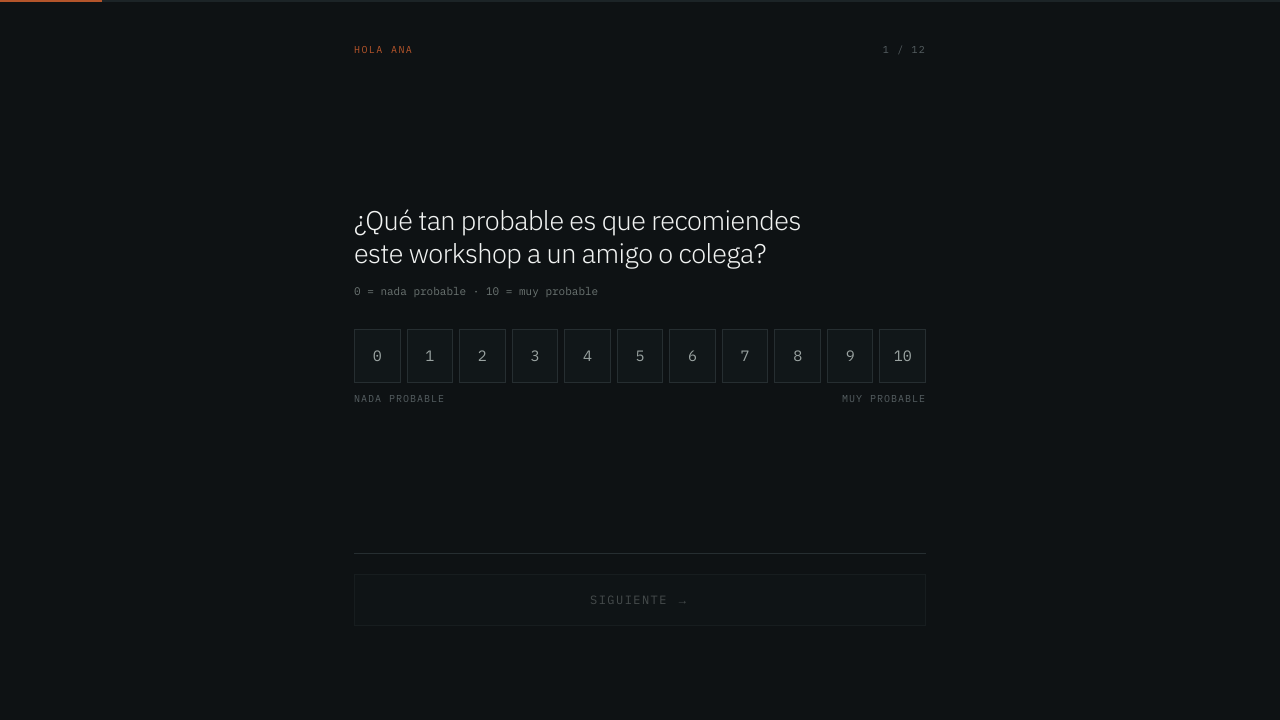
it: SurveyFlow › avanza solo al tocar una opción de un toque
The width and height of the screenshot is (1280, 720).
Click the button "9" at (850, 356), box [827, 329, 873, 383]
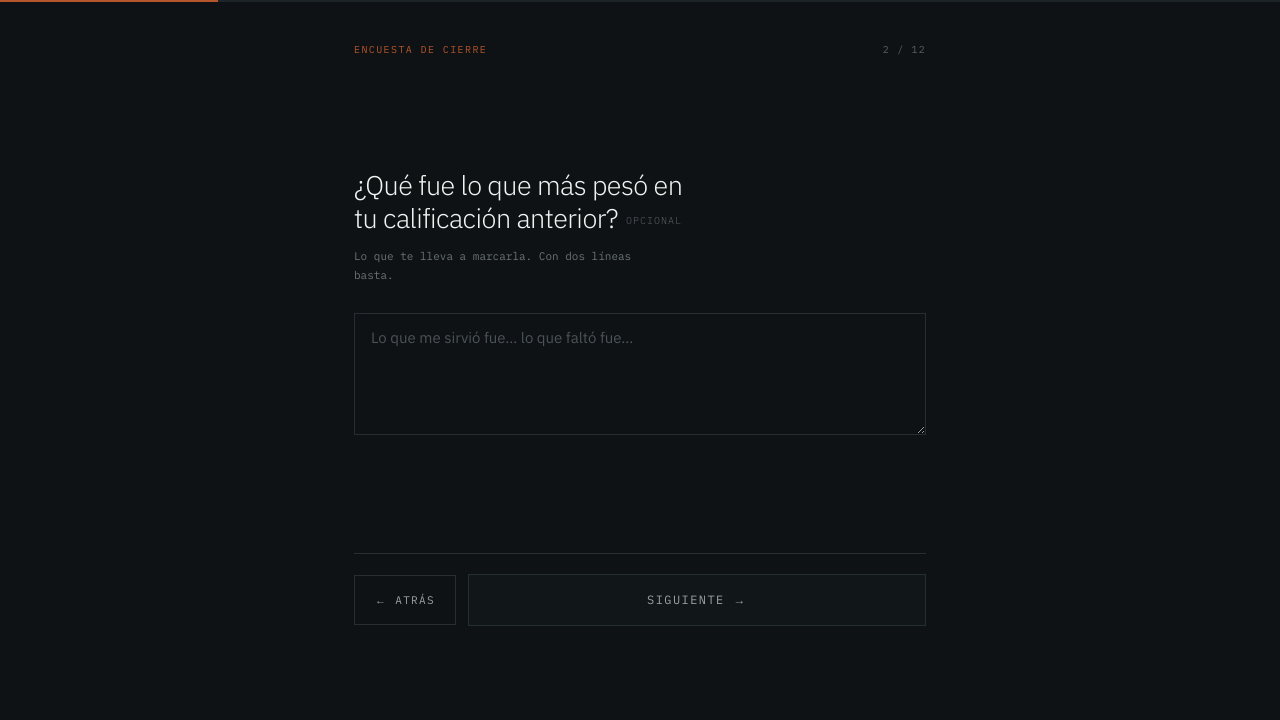
Result: the heading "Qué fue lo que más pesó" is shown at [354, 167, 682, 235]
